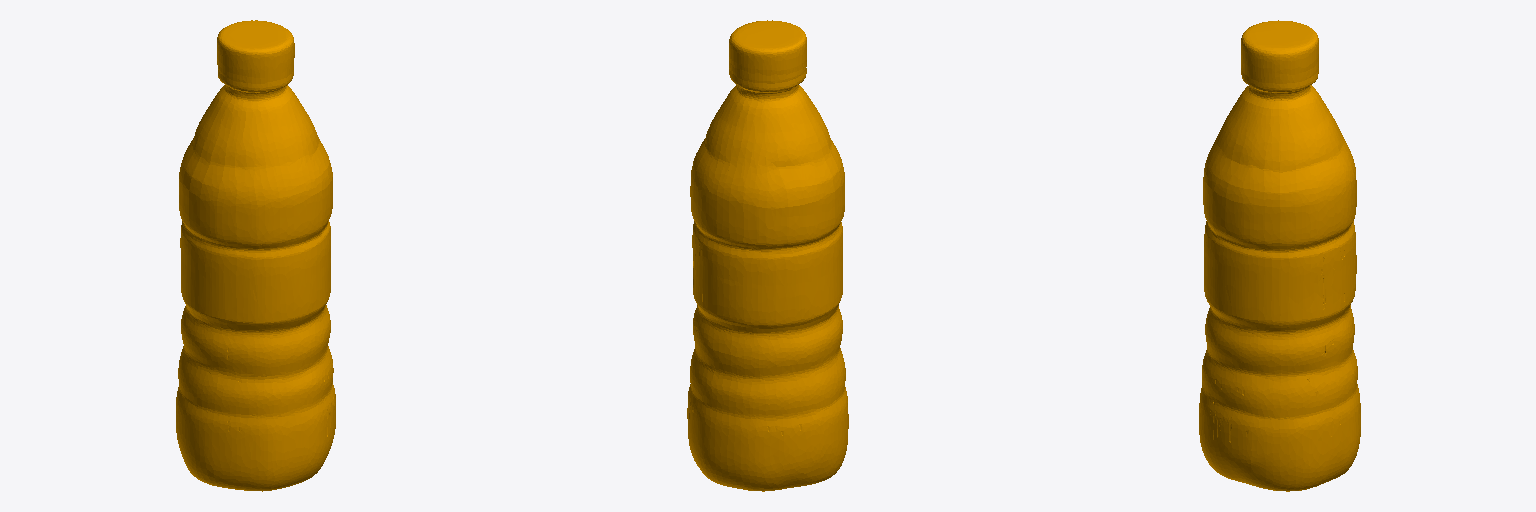
The robot description file, URDF, robot "sample":
<?xml version="1.0" ?>
<robot name="sample">
   <link name="sample">
      <visual>
         <origin xyz="0 0 0" rpy="1.5708 0.0 0.0"/>
         <geometry>
            <mesh filename="mesh/sample.obj" scale="1.0 1.0 1.0"/>
         </geometry>
      </visual>
      <collision>
         <origin xyz="0 0 0" rpy="1.5708 0.0 0.0"/>
         <geometry>
            <mesh filename="mesh/sample_collision.obj" scale="1.0 1.0 1.0"/>
         </geometry>
         <gazebo>
            <mu1>0.50</mu1>
            <mu2>0.40</mu2>
         </gazebo>
      </collision>
      <inertial>
         <mass value="0.3000"/>
         <origin xyz="0 0 0"/>
         <inertia ixx="1.0" ixy="0.0" ixz="0.0" iyy="1.0" iyz="0.0" izz="1.0"/>
      </inertial>
      <extra_info>
         <scale>0.275000</scale>
         <version>v0.1.7</version>
         <category>plastic bottle</category>
         <description>transparent plastic bottle with green cap and label</description>
         <min_height>0.25</min_height>
         <max_height>0.3</max_height>
         <real_height>0.275</real_height>
         <min_mass>0.2</min_mass>
         <max_mass>0.4</max_mass>
         <generate_time>20260331152559</generate_time>
         <gs_model>mesh/sample_gs.ply</gs_model>
      </extra_info>
   </link>
   <custom_data>
      <quality>
         <MeshGeoChecker>YES</MeshGeoChecker>
         <ImageSegChecker>NO, object is not centered and background is distorted with horizontal bands.</ImageSegChecker>
         <ImageAestheticChecker>4.586260557174683</ImageAestheticChecker>
         <overall>NO</overall>
      </quality>
   </custom_data>
</robot>

--- Render facts (derived) ---
The picture shows the robot from 3 angles, left to right: view 1: azimuth 30°, elevation 25°; view 2: azimuth 150°, elevation 25°; view 3: azimuth 270°, elevation 25°; orthographic projection.
Model sample with 1 links and 0 joints (none), rooted at sample, posed all joints at 0.
Links seen in each view (by area): view 1: sample; view 2: sample; view 3: sample.
Link boxes in pixels (x1,y1,x2,y2): sample: (176, 20, 335, 491); sample: (687, 20, 848, 491); sample: (1199, 20, 1360, 491).
Size in the robot's own frame: 0.0938 by 0.094 by 0.275 metres.
Meshes: 1 distinct files referenced, 1 mesh visuals loaded (1 OBJ).
